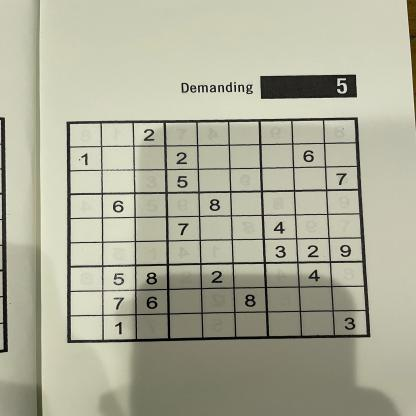sudoku: (62, 113, 375, 348)
